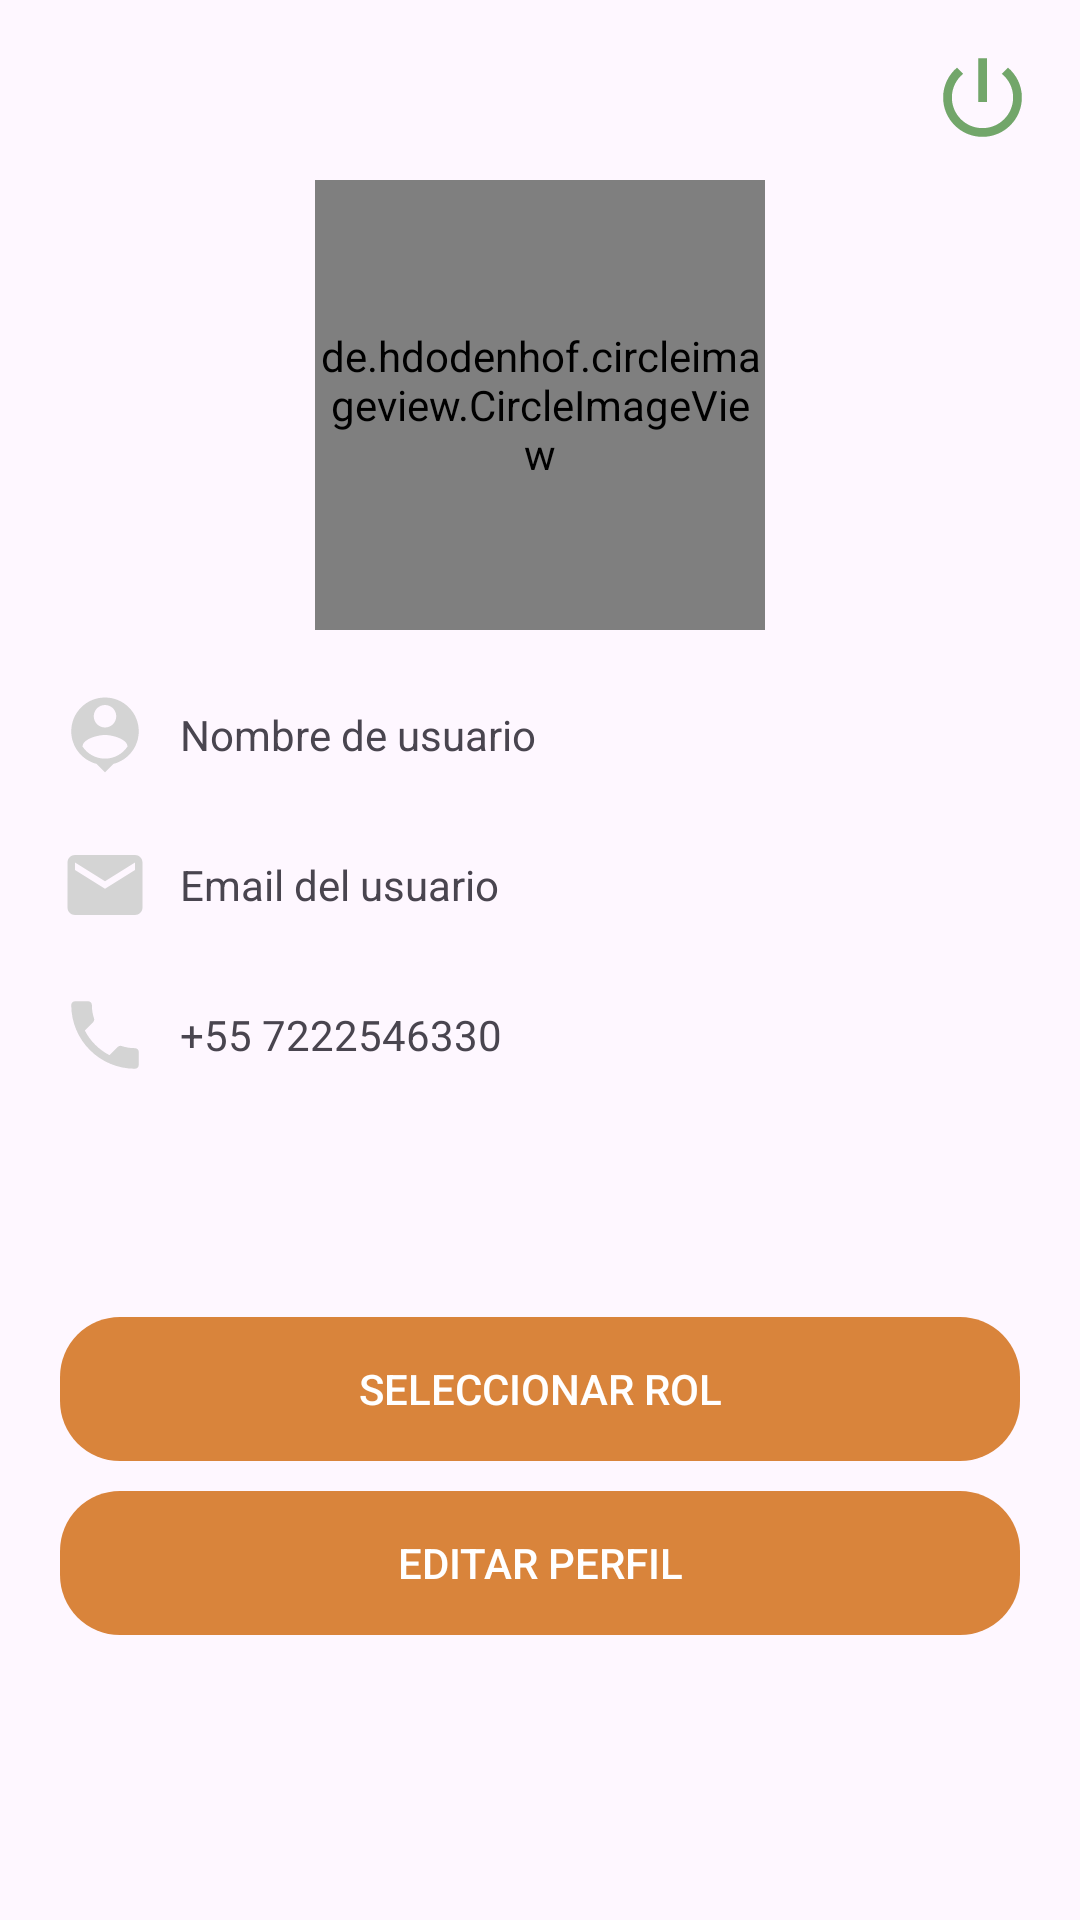

Locate icon controls on the screen. Image size 1080px×1920px, boxes as (x1, y1, x2, y2).
person pin: (71, 698, 139, 772)
phone: (71, 1001, 139, 1069)
power: (943, 58, 1022, 137)
